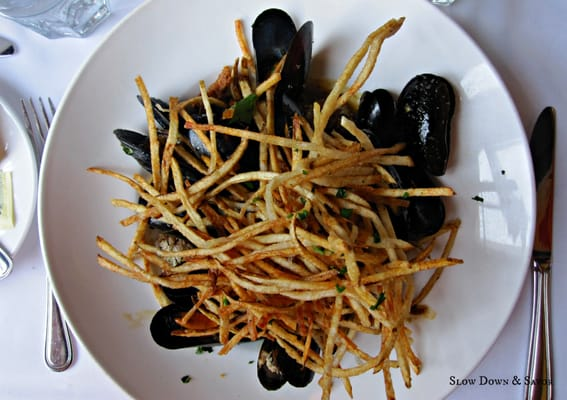burger: (4, 93, 70, 376), (0, 94, 60, 329)
sandwich: (523, 106, 559, 395)
